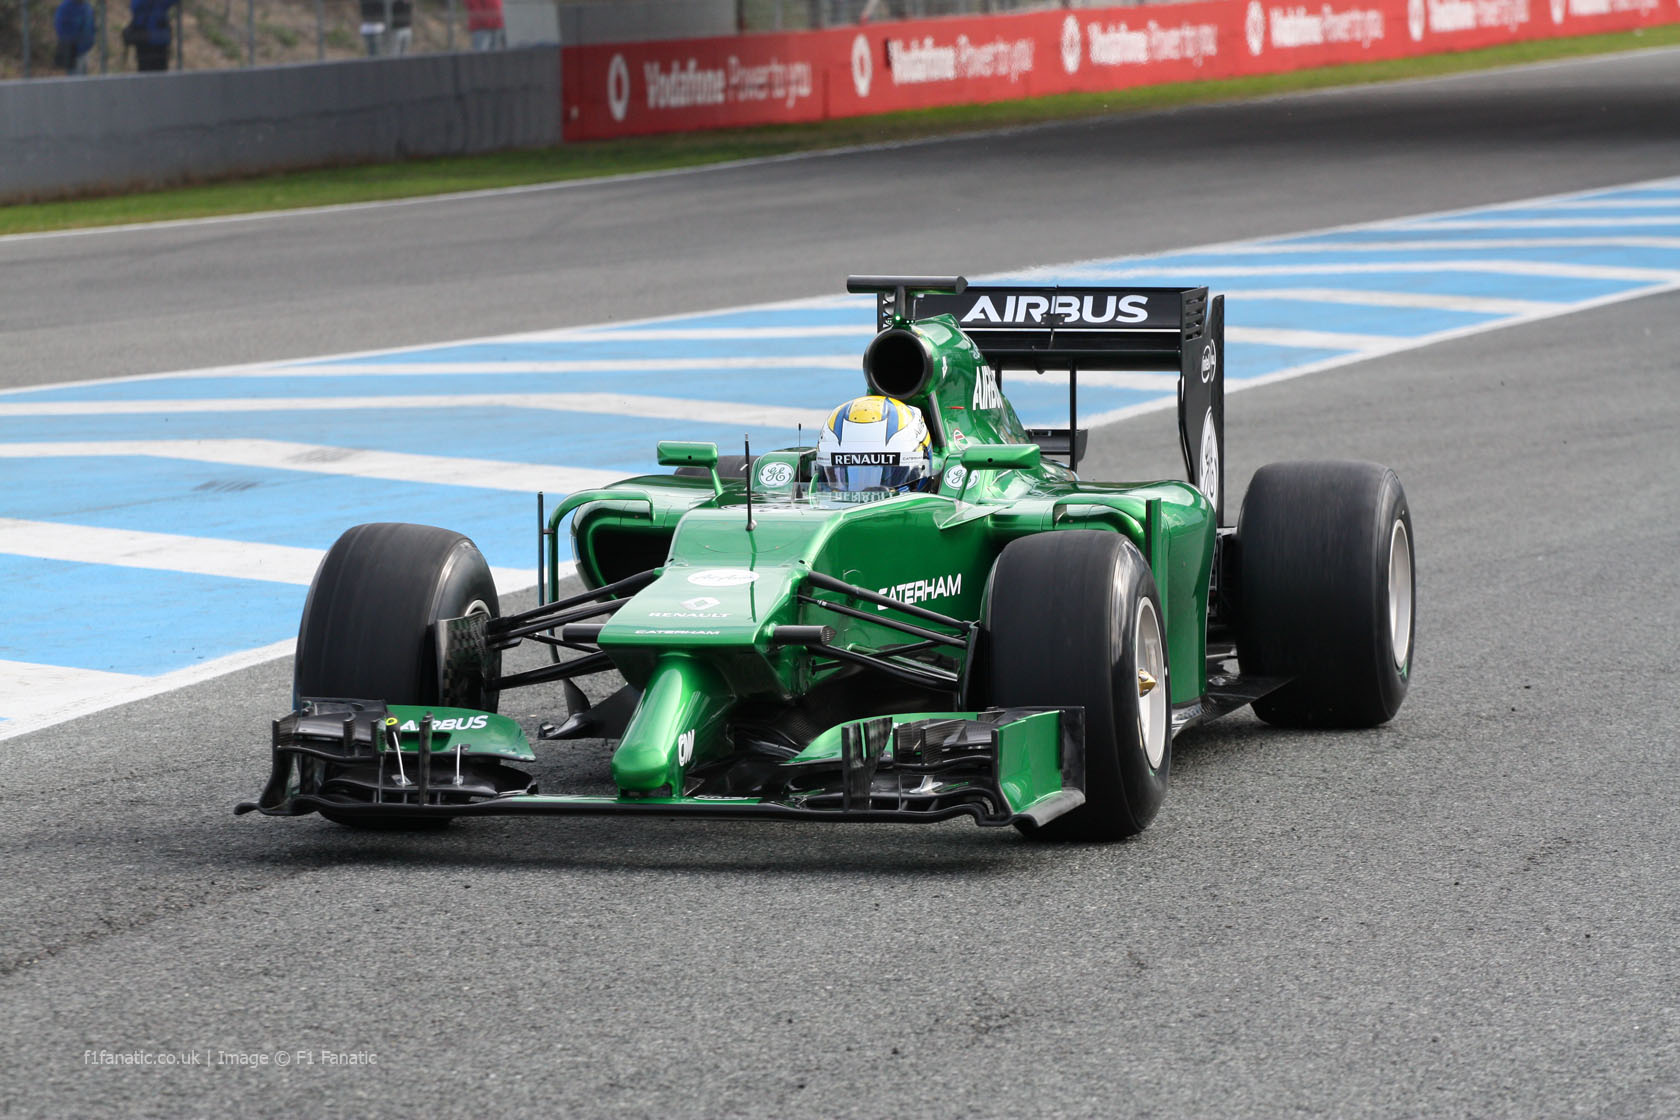f1_car: (207, 250, 1462, 909)
helmet: (802, 389, 949, 502)
